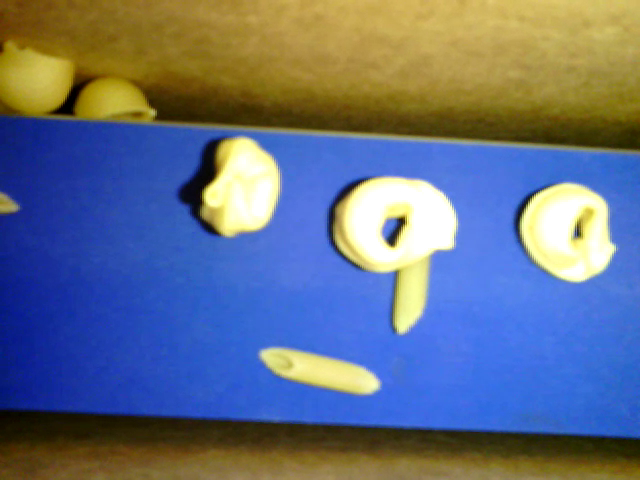penne: (255, 346, 381, 398), (393, 255, 430, 335), (1, 186, 20, 213)
shell: (1, 38, 76, 116), (70, 76, 155, 126)
tortellini: (326, 171, 458, 274), (517, 179, 620, 287), (197, 138, 282, 237)
